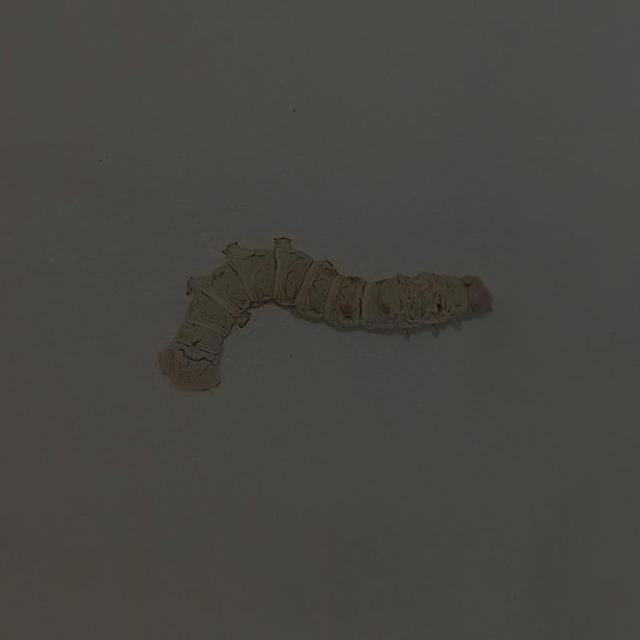Healthy: (144, 230, 503, 396)
